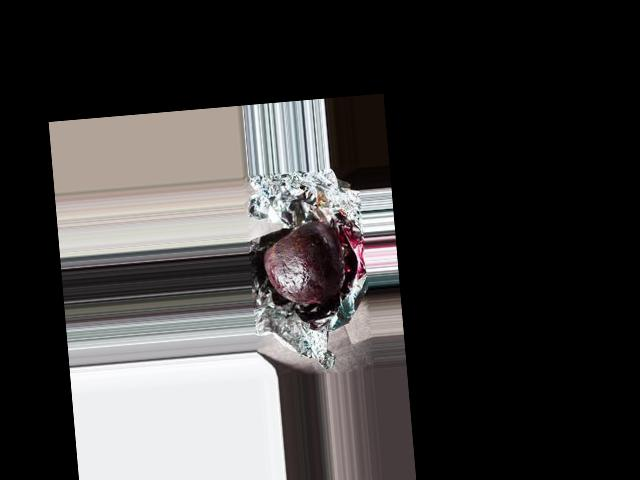beet: (260, 219, 344, 308)
